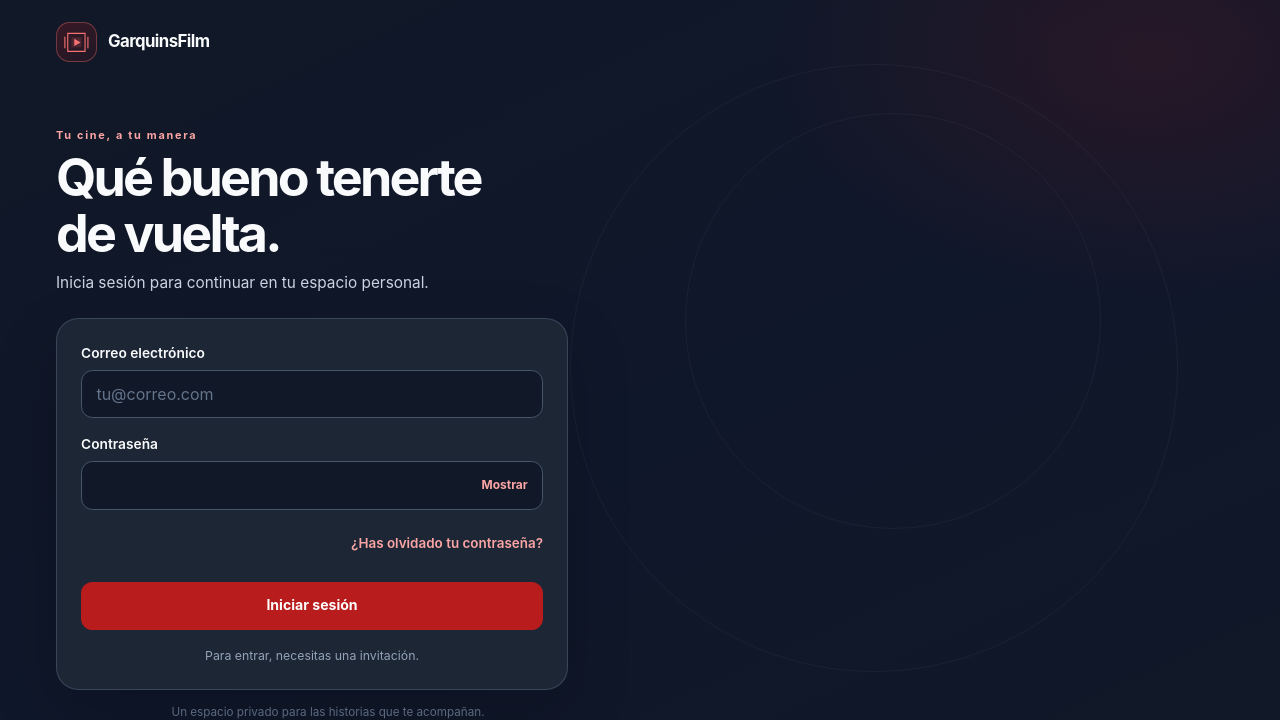
flujo de autenticación y navegación privada › muestra error genérico ante credenciales rechazadas
Type "ada@example.test" into the field labelled "Correo electrónico" at point(312, 394), box [81,370,543,418]
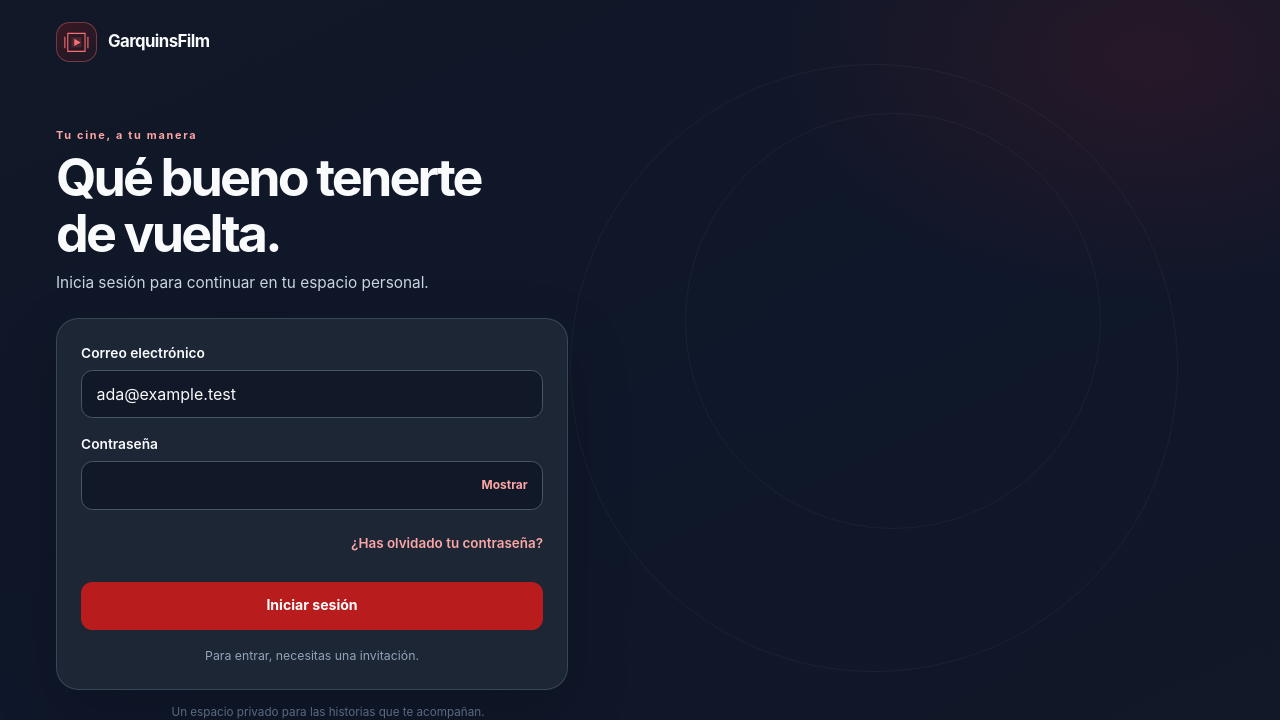
Type "wrong-password" into the password field labelled "Contraseña" at point(312, 485), box [81,461,543,510]
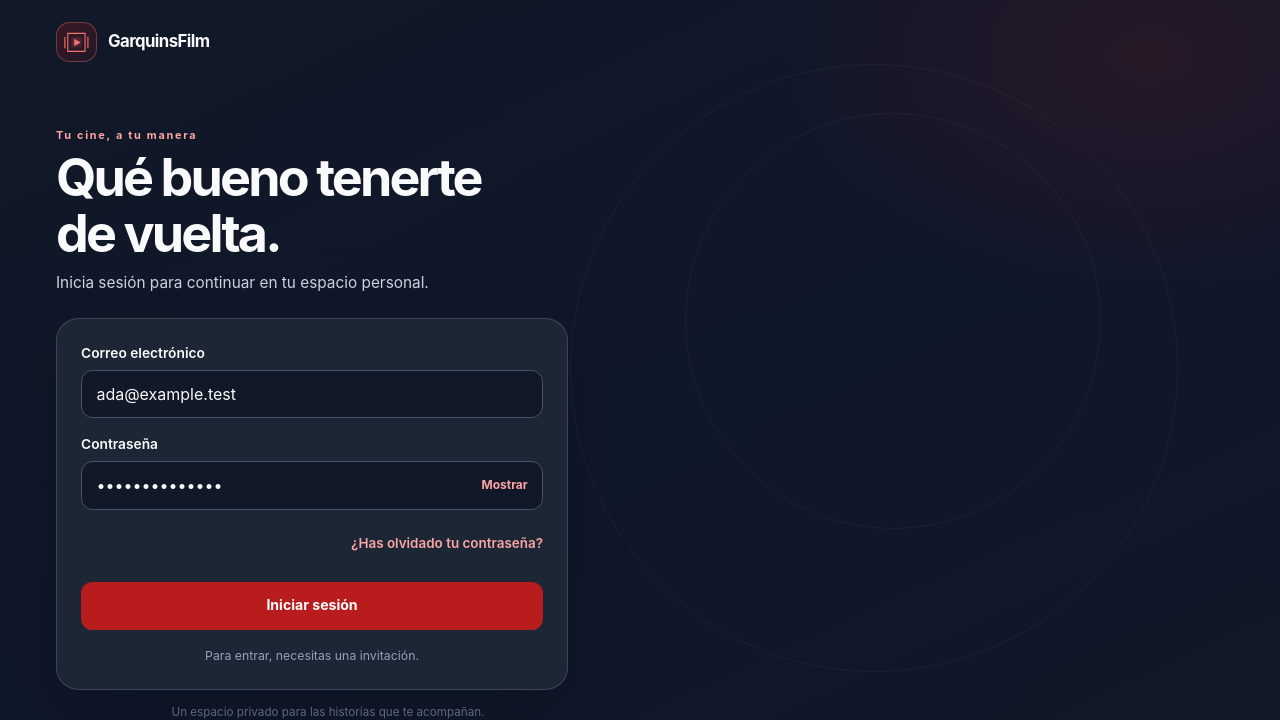
Click the button "Iniciar sesión" at point(312, 606), box [81,582,543,630]
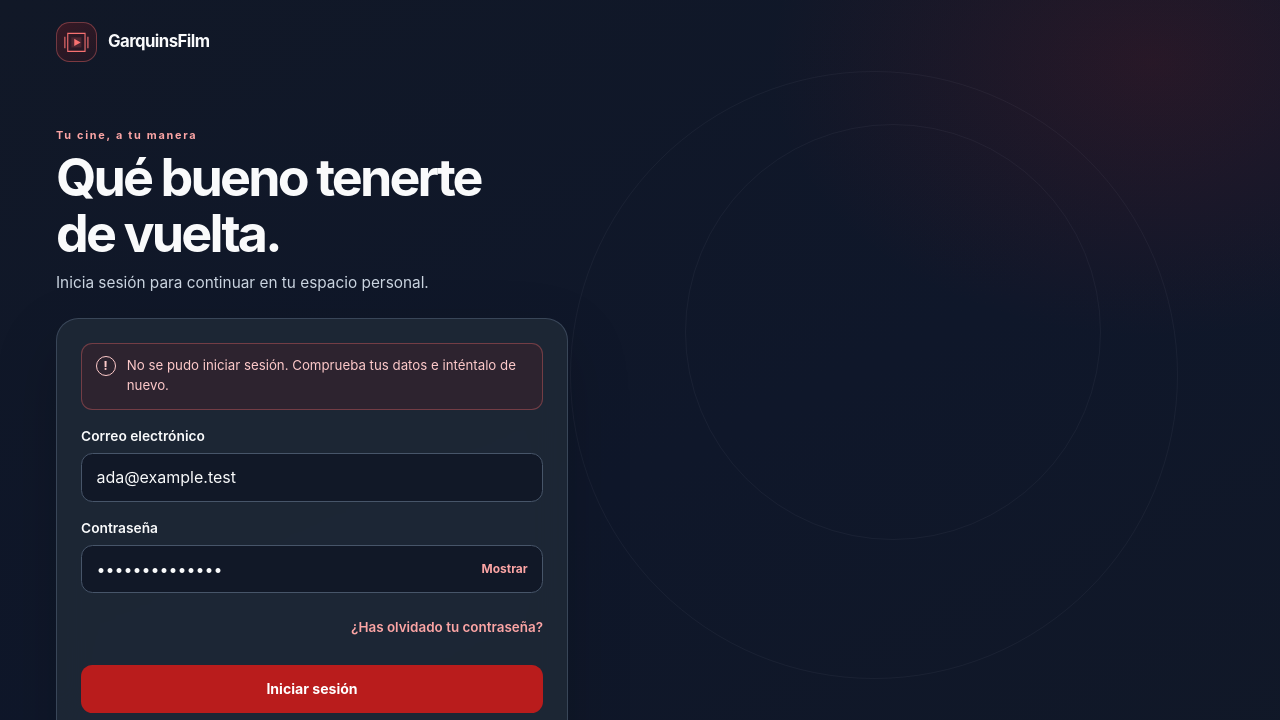
Result: the message shows "No se pudo iniciar sesión. Comprueba tus datos e inténtalo de nuevo." at [127,358,516,393]
